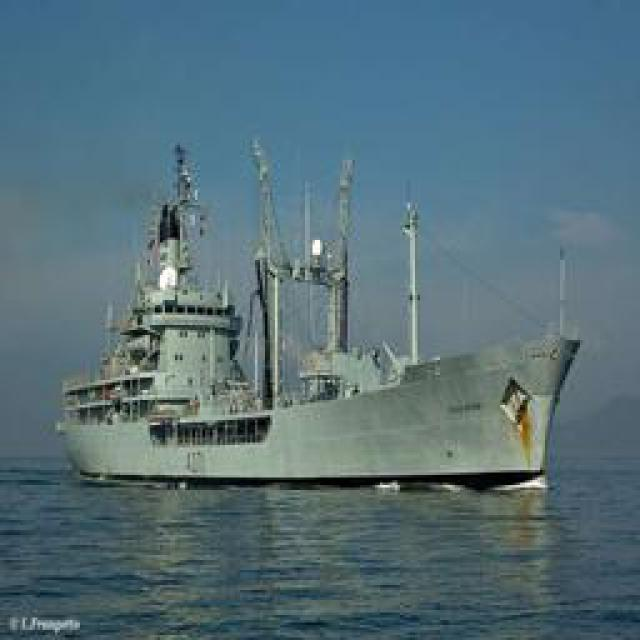Ship: (65, 124, 588, 489)
